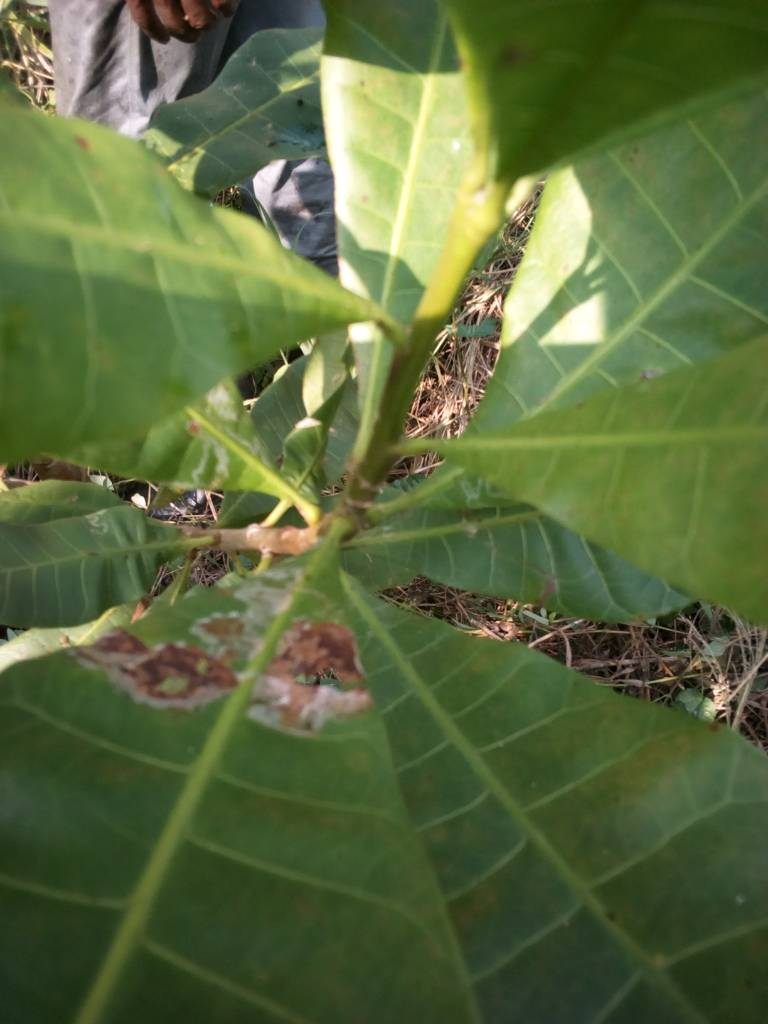Dysdercus wolkerii: (1, 508, 497, 1024)
